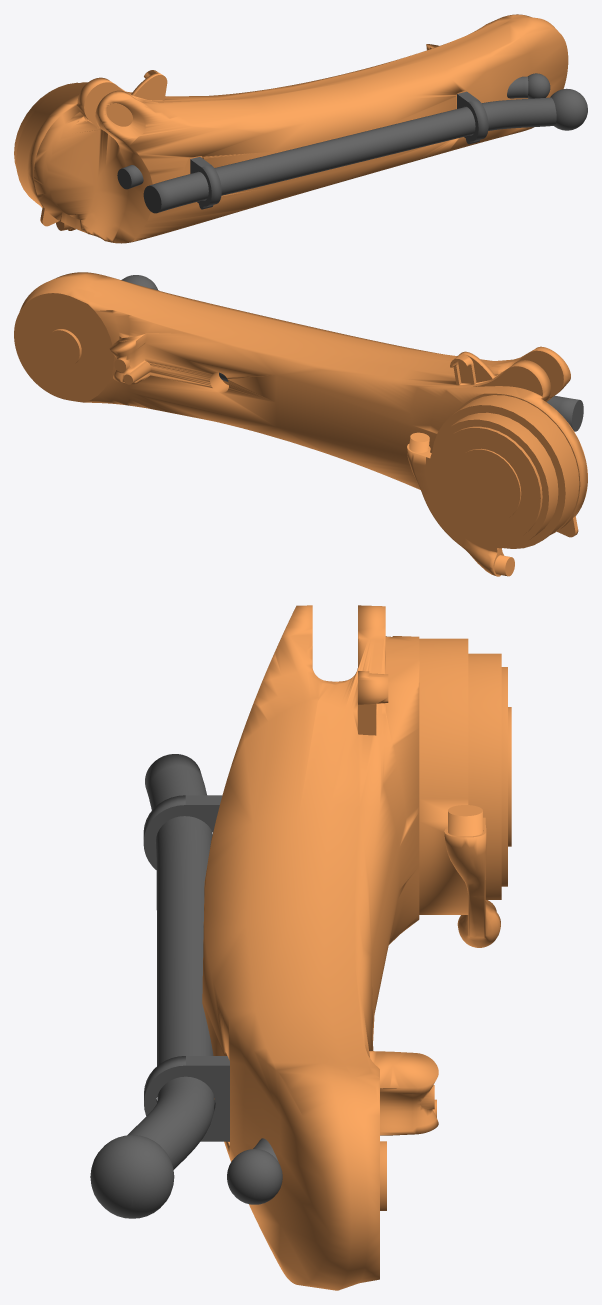
3 views of the same model, one above another, from view 1: azimuth 30°, elevation 25°; view 2: azimuth 150°, elevation 25°; view 3: azimuth 270°, elevation 25° (orthographic). The views are drawn at different scales.
Visible parts, largest first — view 1: link_2; view 2: link_2; view 3: link_2.
Part boxes in pixels (box(x1,y1,x2,y2)): link_2: box(14, 14, 587, 243); link_2: box(14, 272, 587, 576); link_2: box(90, 605, 511, 1290).
Size of the model in its own units: 1.71 by 0.6019 by 0.5324.
